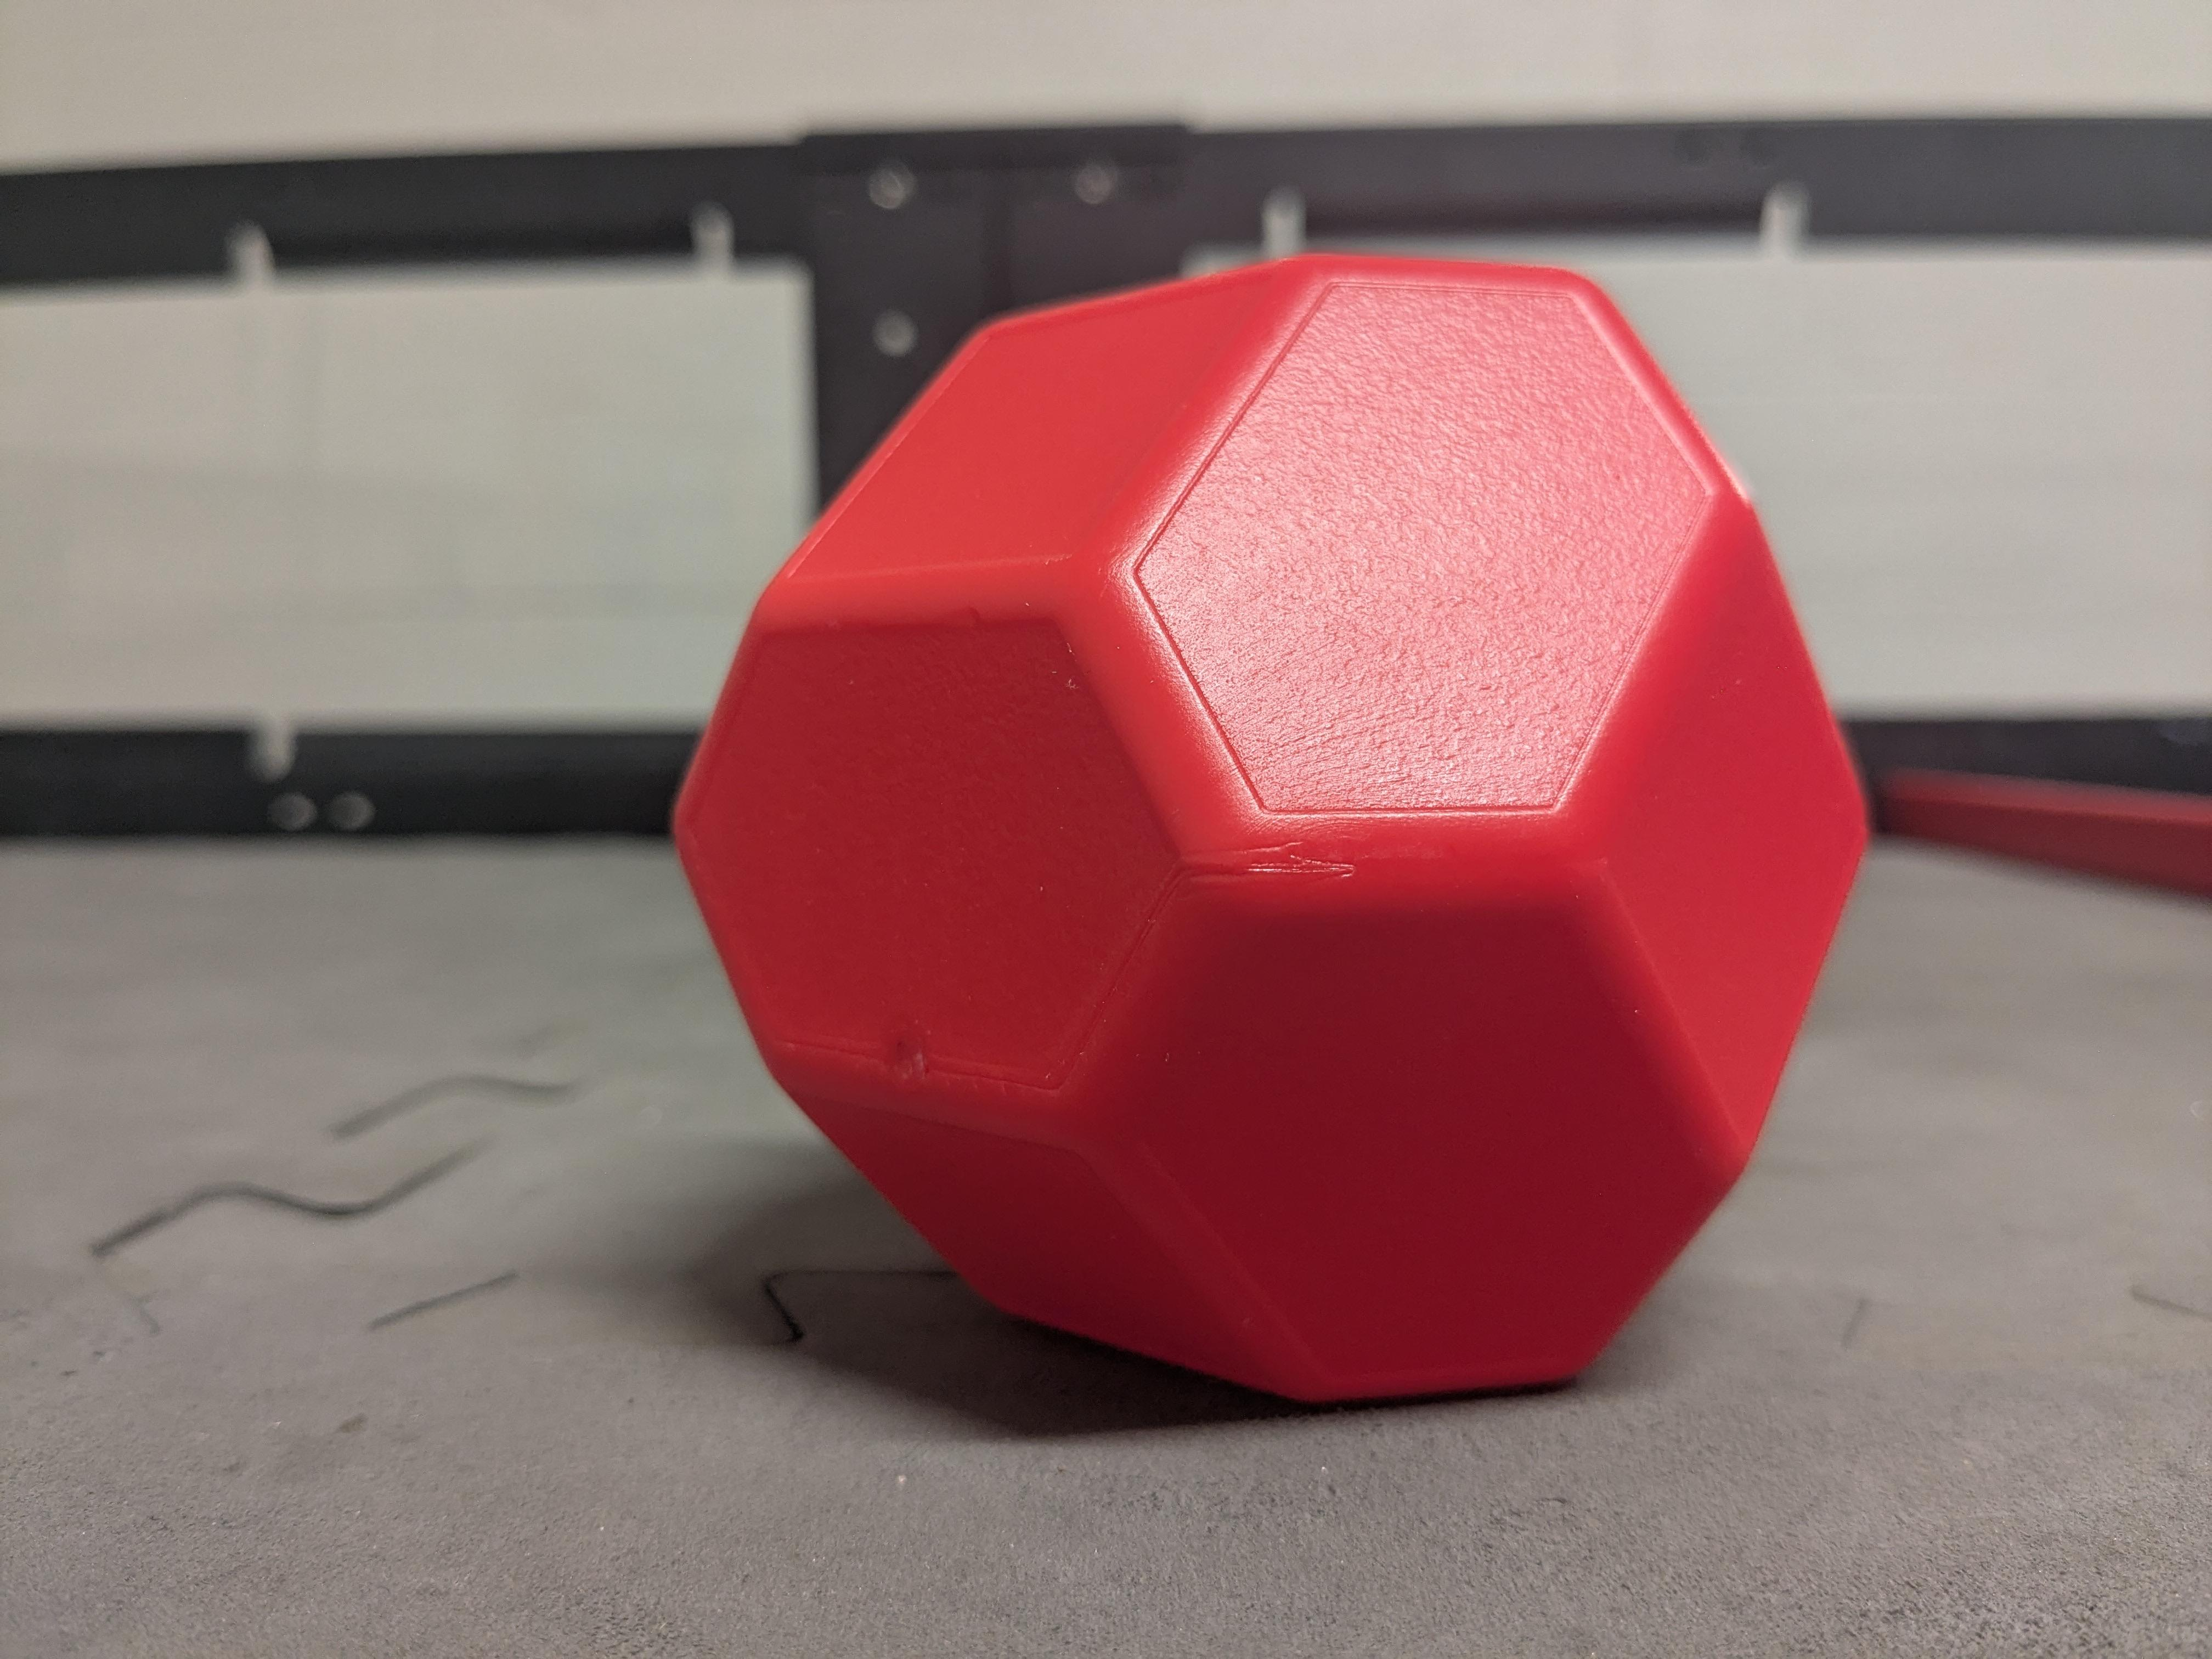Vex-Pieces-RED: (678, 258, 1865, 1399)
